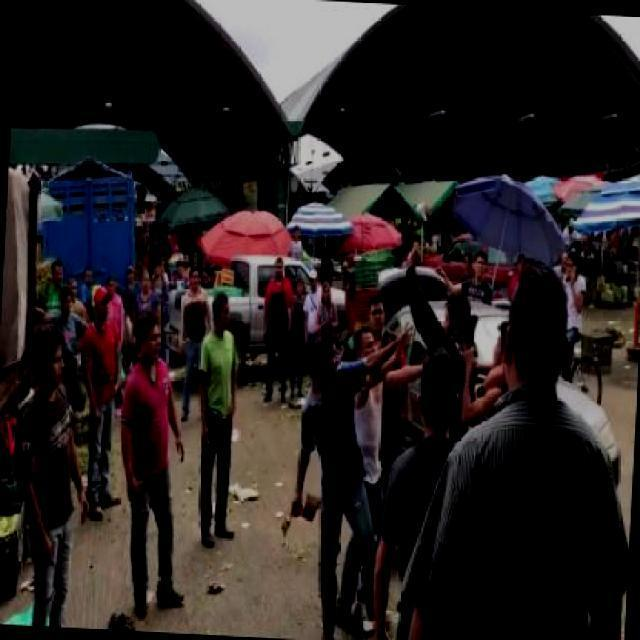fight: (281, 316, 454, 538)
